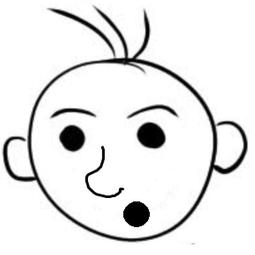ear: (206, 120, 254, 176), (0, 132, 38, 186)
eye: (133, 122, 173, 151), (55, 122, 87, 155)
eyebrow: (121, 102, 181, 123), (46, 102, 97, 123)
nose: (84, 144, 124, 201)
open_mouth: (119, 200, 154, 229)
